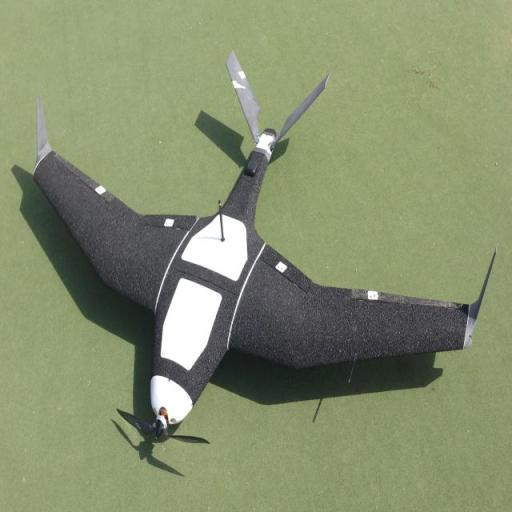uav: (23, 44, 502, 444)
